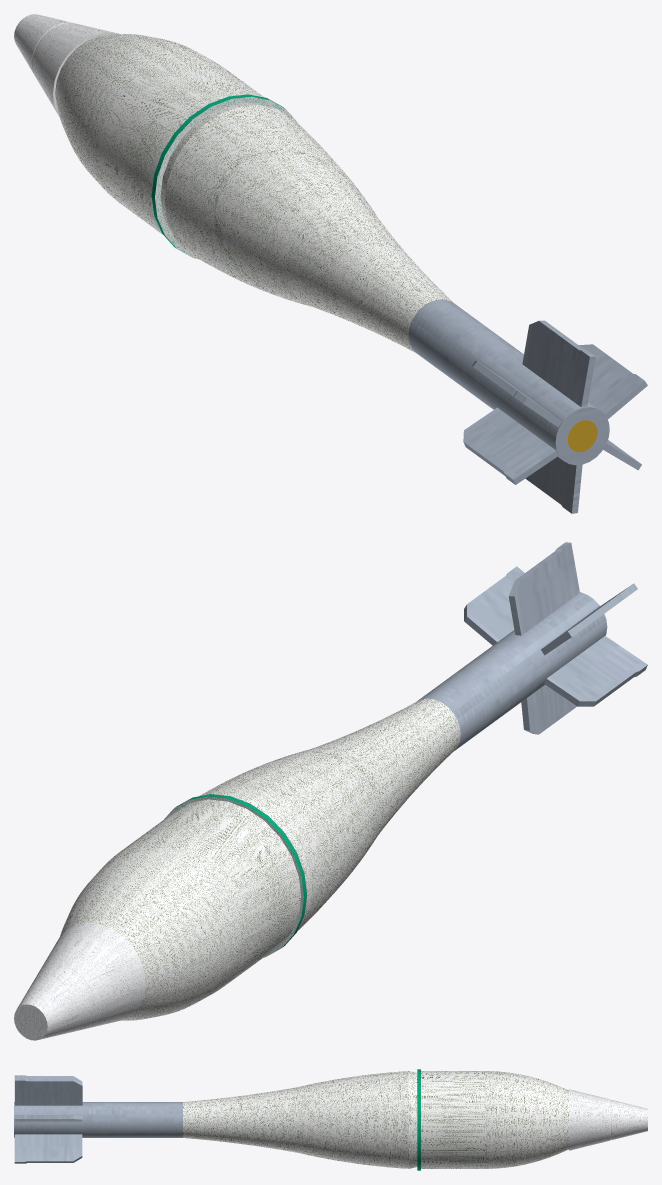
The model's file is MortarShell.dae.
The picture shows the model from 3 angles, top to bottom: view 1: azimuth 30°, elevation 25°; view 2: azimuth 150°, elevation 25°; view 3: azimuth 270°, elevation 25°; orthographic projection. The views are drawn at different scales.
Parts seen in each view (by area): view 1: group_0 (×9); view 2: group_0 (×8); view 3: group_0 (×7).
Part boxes in pixels (x1,y1,x2,y2): group_0 (×9): (14,14,647,513); group_0 (×8): (14,542,647,1040); group_0 (×7): (14,1069,647,1170).
Size of the model in its own units: 10.49 by 65.29 by 10.49.
6 materials, 1 textured.
